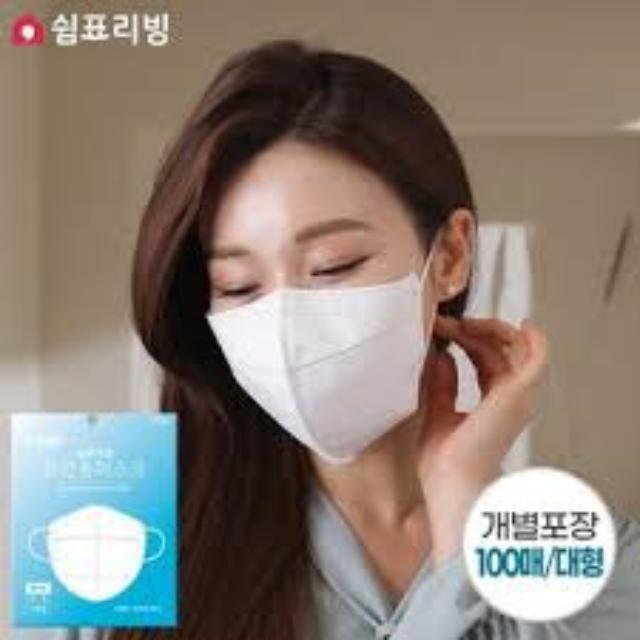masks: (200, 276, 440, 464), (22, 501, 168, 603)
